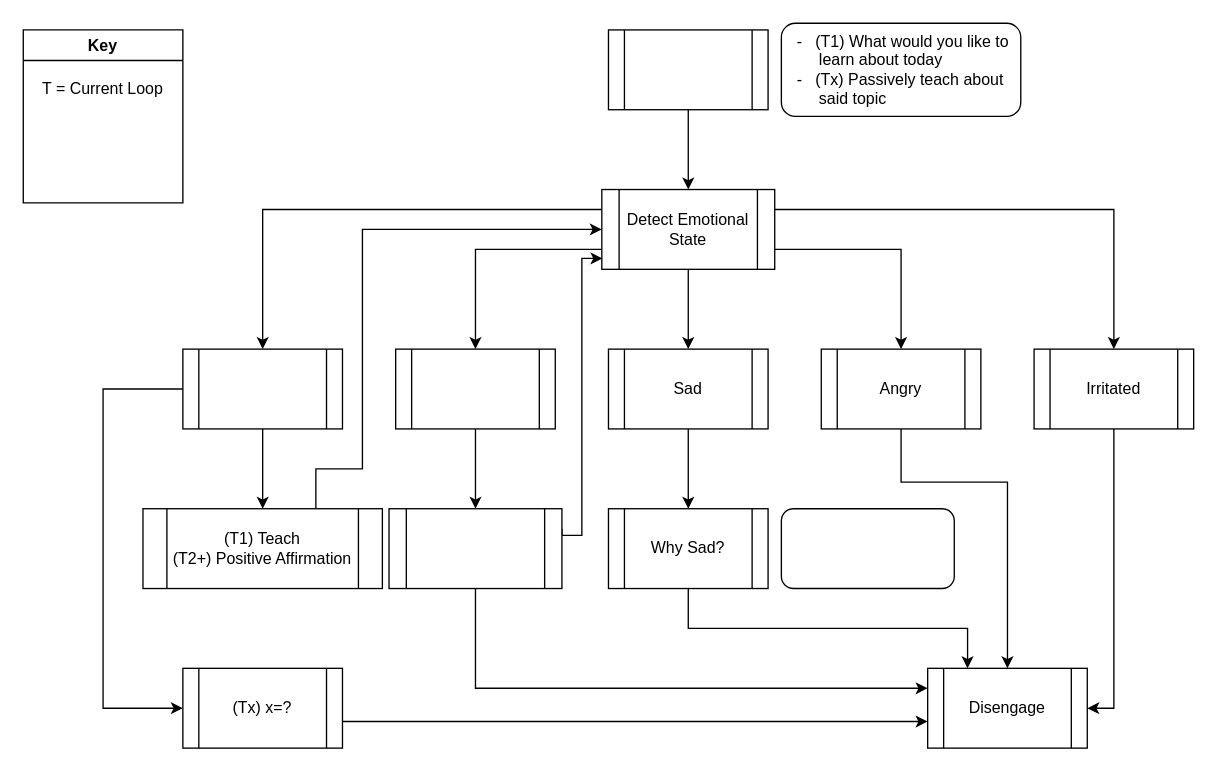
This 1217x771 diagram has some shape labels left out. The shapes that lost their labels are listed below. From the top down, each one's centre as x and y in pixels, then its label:
pixel 687 69: Prompt Initial Question
pixel 262 388: Happy/Neutral
pixel 474 388: Distracted
pixel 475 548: (T1-2) Re-engage (T3) Call Principal
pixel 867 548: - Empty Affirmations
